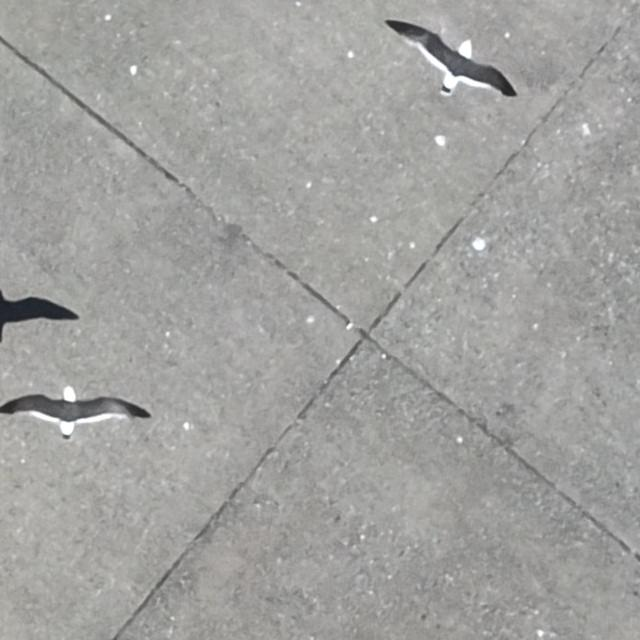F: (402, 23, 502, 99), (14, 376, 126, 441)
